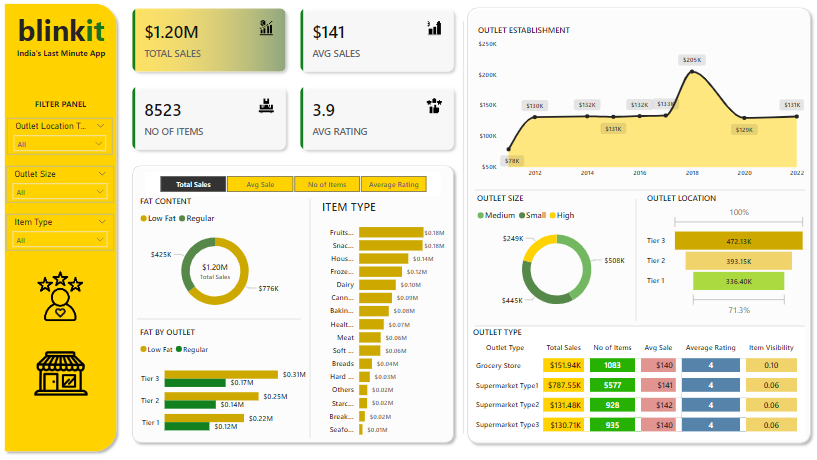

This screenshot's page, from the dashboard's own definition file:
{"tool":"powerbi","page":{"name":"Page 1","canvas":[1400,800],"ordinal":0},"visuals":[{"type":"shape","box":[23.3,25,205,765],"z":0},{"type":"textbox","box":[43.3,40,166.7,103.3],"z":1000},{"type":"textbox","box":[43.3,103.3,166.7,40],"z":2000},{"type":"cardVisual","fields":{"Data":["BlinkIT Grocery Data.Total Sales","BlinkIT Grocery Data.Avg Sale","BlinkIT Grocery Data.No of Items","BlinkIT Grocery Data.Average Rating"]},"box":[228.3,25,570,270],"z":3000},{"type":"shape","box":[236.7,295,553.3,480],"z":4000},{"type":"donutChart","title":"FAT CONTENT","fields":{"Y":["BlinkIT Grocery Data.Total Sales"],"Category":["BlinkIT Grocery Data.Item Fat Content"]},"box":[253.3,355,260,205],"z":5000},{"type":"slicer","fields":{"Values":["Metrics.Metrics"]},"box":[266.7,315,493.3,40],"z":6000},{"type":"cardVisual","fields":{"Data":["BlinkIT Grocery Data.Total Sales"]},"box":[303.3,426.7,160,106.7],"z":7000},{"type":"clusteredBarChart","title":"FAT BY OUTLET","fields":{"Y":["BlinkIT Grocery Data.Total Sales"],"Category":["BlinkIT Grocery Data.Outlet Location Type"],"Series":["BlinkIT Grocery Data.Item Fat Content"]},"box":[253.3,573.3,288.3,193.3],"z":8000},{"type":"shape","box":[253.3,530,273.3,60],"z":9000},{"type":"shape","box":[526.7,360,30,398.3],"z":10000},{"type":"barChart","title":"ITEM TYPE","fields":{"Y":["BlinkIT Grocery Data.Total Sales"],"Category":["BlinkIT Grocery Data.Item Type"]},"box":[556.7,360,215,406.7],"z":11000},{"type":"shape","box":[795.6,31.1,590,744.4],"z":12000},{"type":"lineChart","title":"OUTLET ESTABLISHMENT","fields":{"Category":["BlinkIT Grocery Data.Outlet Establishment Year"],"Y":["BlinkIT Grocery Data.Total Sales"]},"box":[816.7,70,553.3,265],"z":13000},{"type":"shape","box":[781.7,63.3,31.7,688.3],"z":14000},{"type":"donutChart","title":"OUTLET SIZE","fields":{"Y":["BlinkIT Grocery Data.Total Sales"],"Category":["BlinkIT Grocery Data.Outlet Size"]},"box":[815.6,350,275.6,208.9],"z":15000},{"type":"shape","box":[1078.3,360,13.3,203.3],"z":16000},{"type":"funnel","title":"OUTLET LOCATION","fields":{"Y":["Sum(BlinkIT Grocery Data.Sales)"],"Category":["BlinkIT Grocery Data.Outlet Location Type"]},"box":[1098.9,350,274.4,208.9],"z":17000},{"type":"shape","box":[816.7,335.6,550,20],"z":18000},{"type":"shape","box":[816.7,563.3,550,16.7],"z":19000},{"type":"pivotTable","title":"OUTLET TYPE","fields":{"Values":["BlinkIT Grocery Data.Total Sales","BlinkIT Grocery Data.No of Items","BlinkIT Grocery Data.Avg Sale","BlinkIT Grocery Data.Average Rating","Avg(BlinkIT Grocery Data.Item Visibility)"],"Rows":["BlinkIT Grocery Data.Outlet Type"]},"box":[807.8,573.3,558.9,186.7],"z":20000},{"type":"slicer","fields":{"Values":["BlinkIT Grocery Data.Outlet Location Type"]},"box":[37.1,224.3,175.7,61.4],"z":21000},{"type":"slicer","fields":{"Values":["BlinkIT Grocery Data.Outlet Size"]},"box":[35.7,304.3,180,61.4],"z":22000},{"type":"slicer","fields":{"Values":["BlinkIT Grocery Data.Item Type"]},"box":[35.7,385.7,180,61.4],"z":23000},{"type":"textbox","box":[65,188.3,121.7,30],"z":24000},{"type":"image","box":[50,447.1,150,152.9],"z":25000},{"type":"image","box":[51.4,571.4,150,151.4],"z":26000}]}

Visuals, with their boxes in screenshot pixels (x1, y1, x2, y2), scaled from the page's 1400x800 canvas onto the 817x460 screenshot:
shape: 14,14,133,454
textbox: 25,23,123,82
textbox: 25,59,123,82
cardVisual - BlinkIT Grocery Data.Total Sales x BlinkIT Grocery Data.Avg Sale: 133,14,466,170
shape: 138,170,461,446
"FAT CONTENT" donutChart: 148,204,300,322
slicer - Metrics.Metrics: 156,181,444,204
cardVisual - BlinkIT Grocery Data.Total Sales: 177,245,270,307
"FAT BY OUTLET" clusteredBarChart: 148,330,316,441
shape: 148,305,307,339
shape: 307,207,325,436
"ITEM TYPE" barChart: 325,207,450,441
shape: 464,18,809,446
"OUTLET ESTABLISHMENT" lineChart: 477,40,799,193
shape: 456,36,475,432
"OUTLET SIZE" donutChart: 476,201,637,321
shape: 629,207,637,324
"OUTLET LOCATION" funnel: 641,201,801,321
shape: 477,193,798,204
shape: 477,324,798,334
"OUTLET TYPE" pivotTable: 471,330,798,437
slicer - BlinkIT Grocery Data.Outlet Location Type: 22,129,124,164
slicer - BlinkIT Grocery Data.Outlet Size: 21,175,126,210
slicer - BlinkIT Grocery Data.Item Type: 21,222,126,257
textbox: 38,108,109,126
image: 29,257,117,345
image: 30,329,118,416
